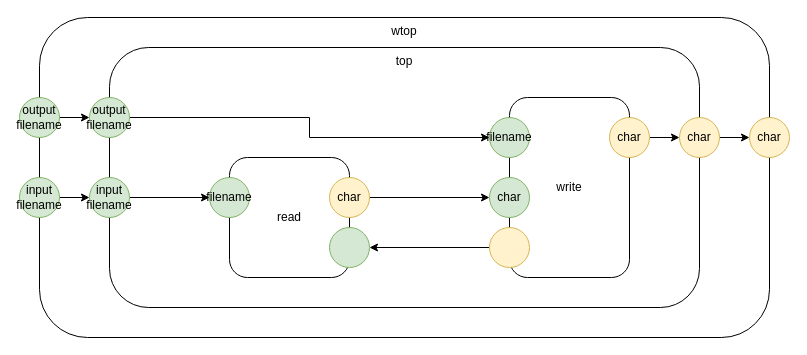
Image size: 807x355. Some labels were removed from this diagram. Here are the shapes that lost their labels. From the top down, the centre of each, then its label:
At (349,247): "req".
At (509,247): "request".
